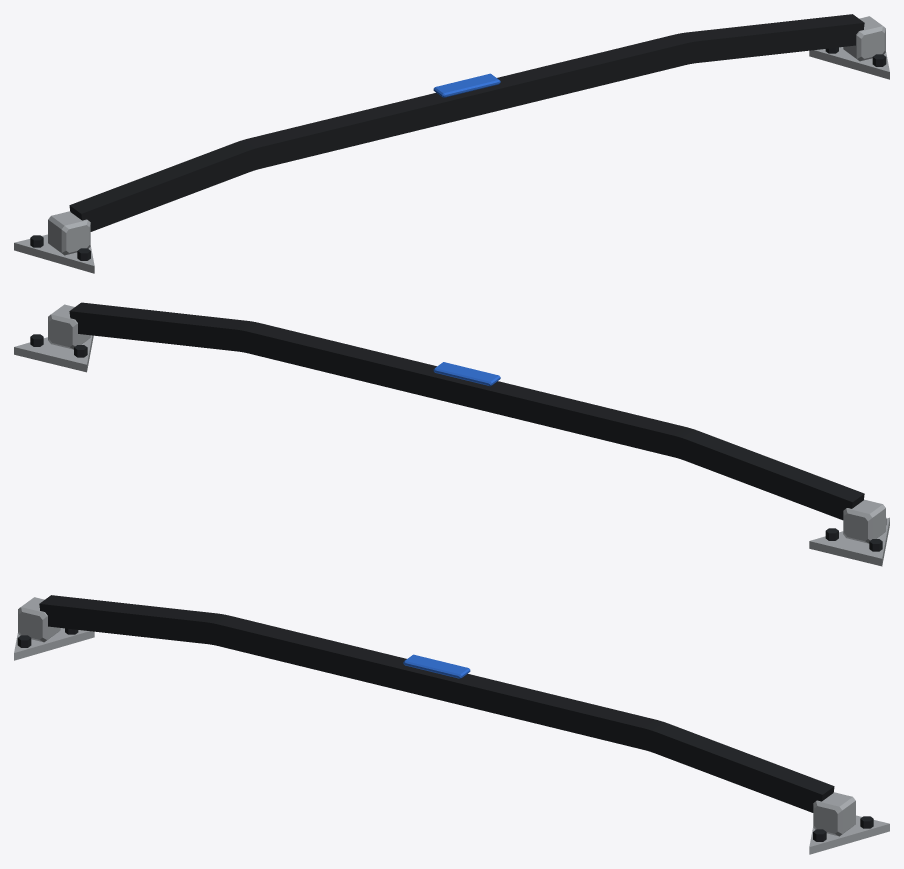
File: hana_roadster.glb
The picture shows the model from 3 angles, top to bottom: view 1: azimuth 30°, elevation 25°; view 2: azimuth 150°, elevation 25°; view 3: azimuth 330°, elevation 25°; orthographic projection.
Visible parts, largest first — view 1: model; view 2: model; view 3: model.
Part boxes in pixels (bbox=[...]): model: bbox=[14, 14, 889, 273]; model: bbox=[14, 302, 889, 566]; model: bbox=[14, 595, 889, 854].
Bounding box in the file's own units: 1.19 × 0.0981 × 0.105.
3 materials, 1 textured.
